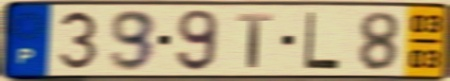3: (54, 8, 103, 74)
8: (355, 9, 403, 73)
9: (106, 8, 161, 73), (172, 8, 222, 74)
L: (301, 10, 342, 72)
T: (235, 12, 275, 70)
